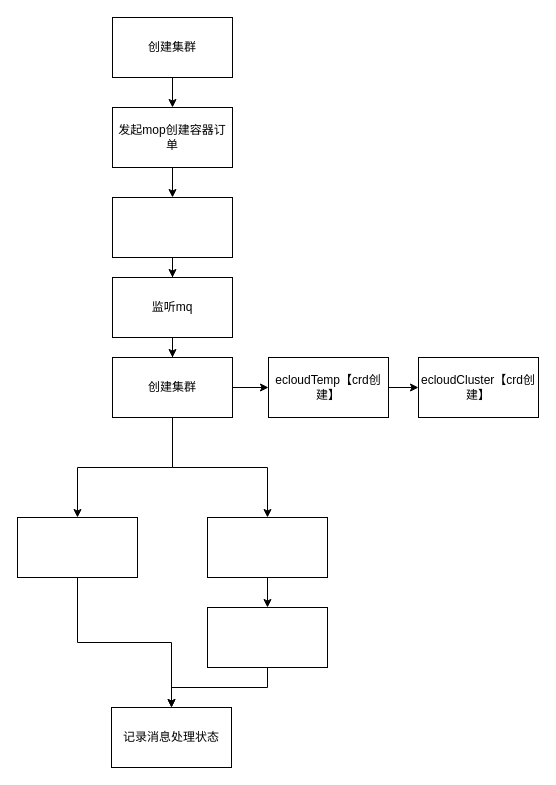
This 556x785 diagram has some shape labels left out. The shapes that lost their labels are listed below. From the top down, each one's centre as x and y in pixels, then its label:
[172,227]: mysql存储集群及mop订单信息
[77,547]: 成功
[267,547]: 失败
[267,637]: 发起mop取消容器订单
